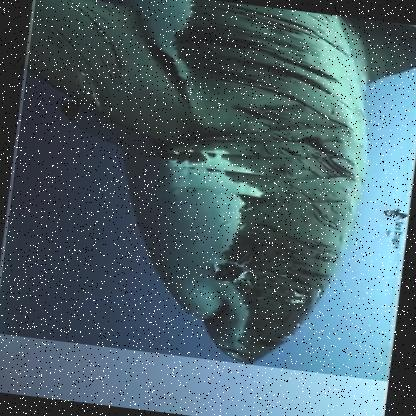white-shark: (0, 0, 415, 382)
